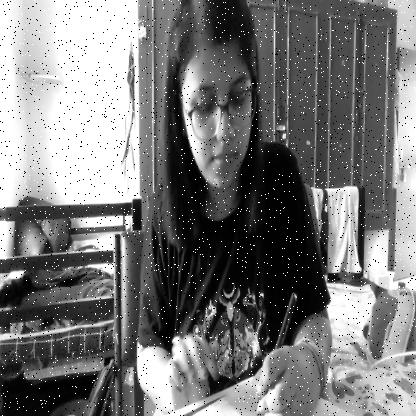Normal: (173, 0, 259, 194)
